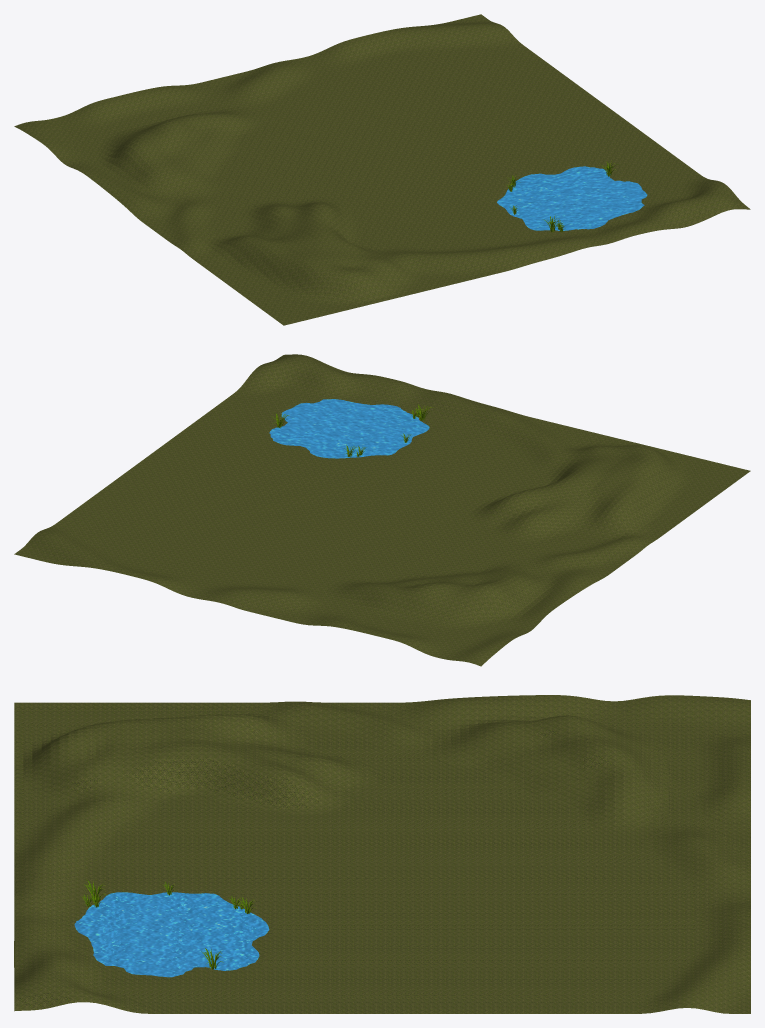
File: ground.obj
3 renders of one model, top to bottom at view 1: azimuth 30°, elevation 25°; view 2: azimuth 150°, elevation 25°; view 3: azimuth 270°, elevation 25°, orthographic. The views are drawn at different scales.
Visible parts, largest first — view 1: Plane, Plane.001; view 2: Plane, Plane.001; view 3: Plane, Plane.001.
Boxes of the visible parts, <box> form: Plane: <box>14,14,750,325</box>; Plane.001: <box>497,166,647,230</box>; Plane: <box>14,354,750,666</box>; Plane.001: <box>269,399,429,458</box>; Plane: <box>14,695,750,1013</box>; Plane.001: <box>74,892,269,977</box>.
Size of the model in its own units: 29.64 by 1.69 by 29.65.
3 materials, 3 textured.
